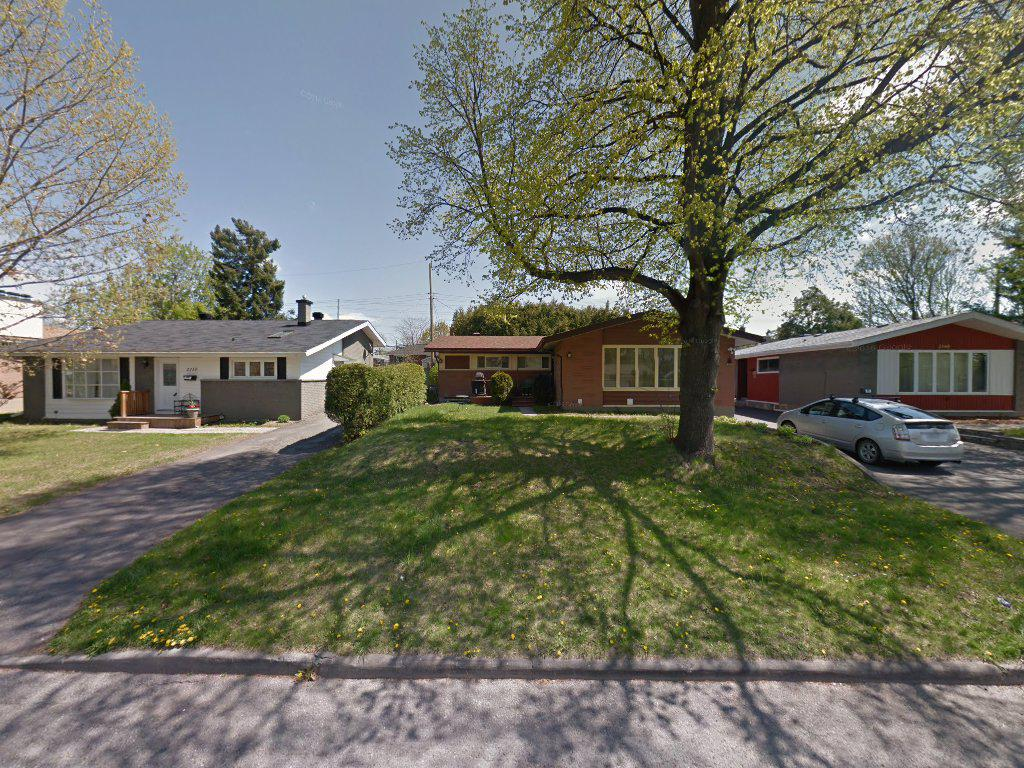trunk: (673, 145, 730, 476)
